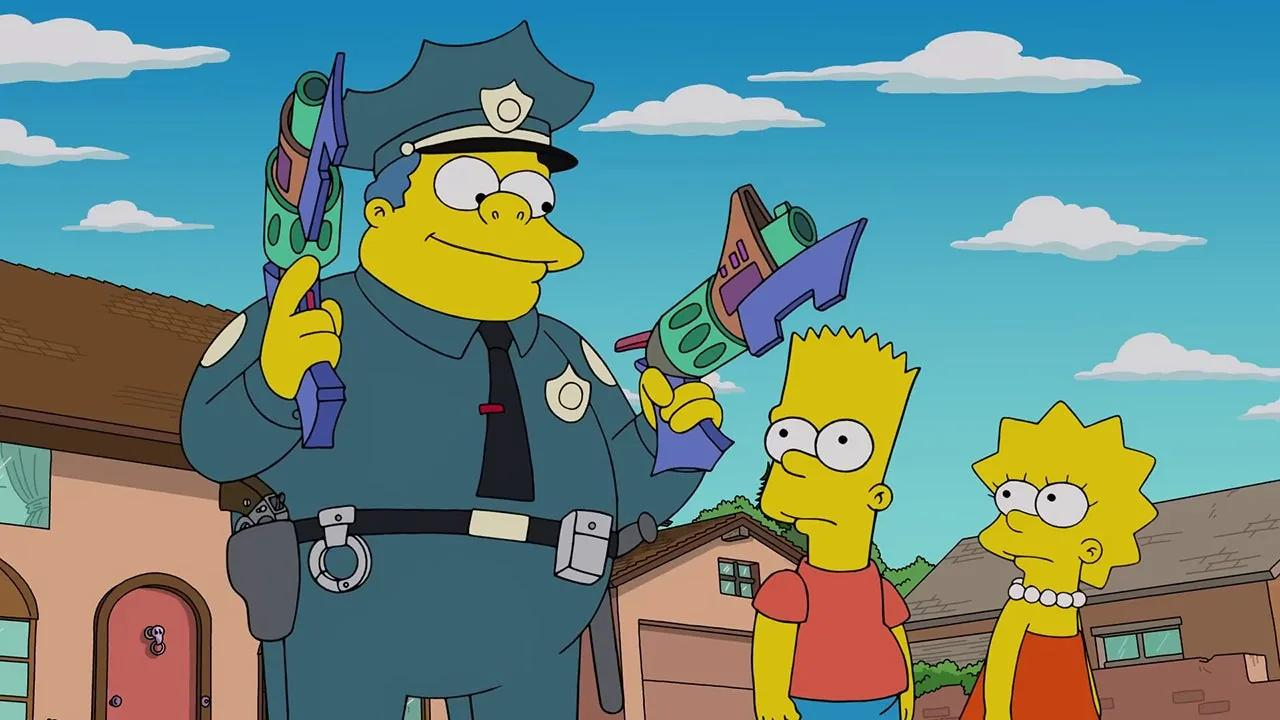Bart: (759, 317, 946, 718)
Lisa: (974, 391, 1165, 720)
